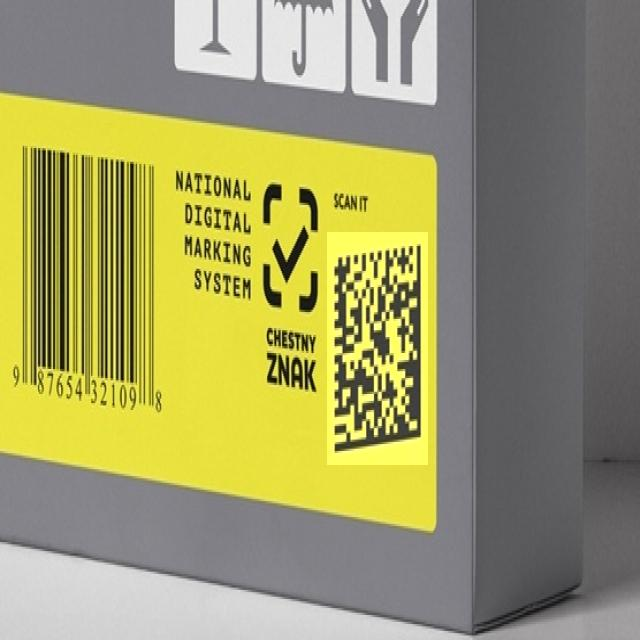DataMatrix: (327, 232, 428, 465)
